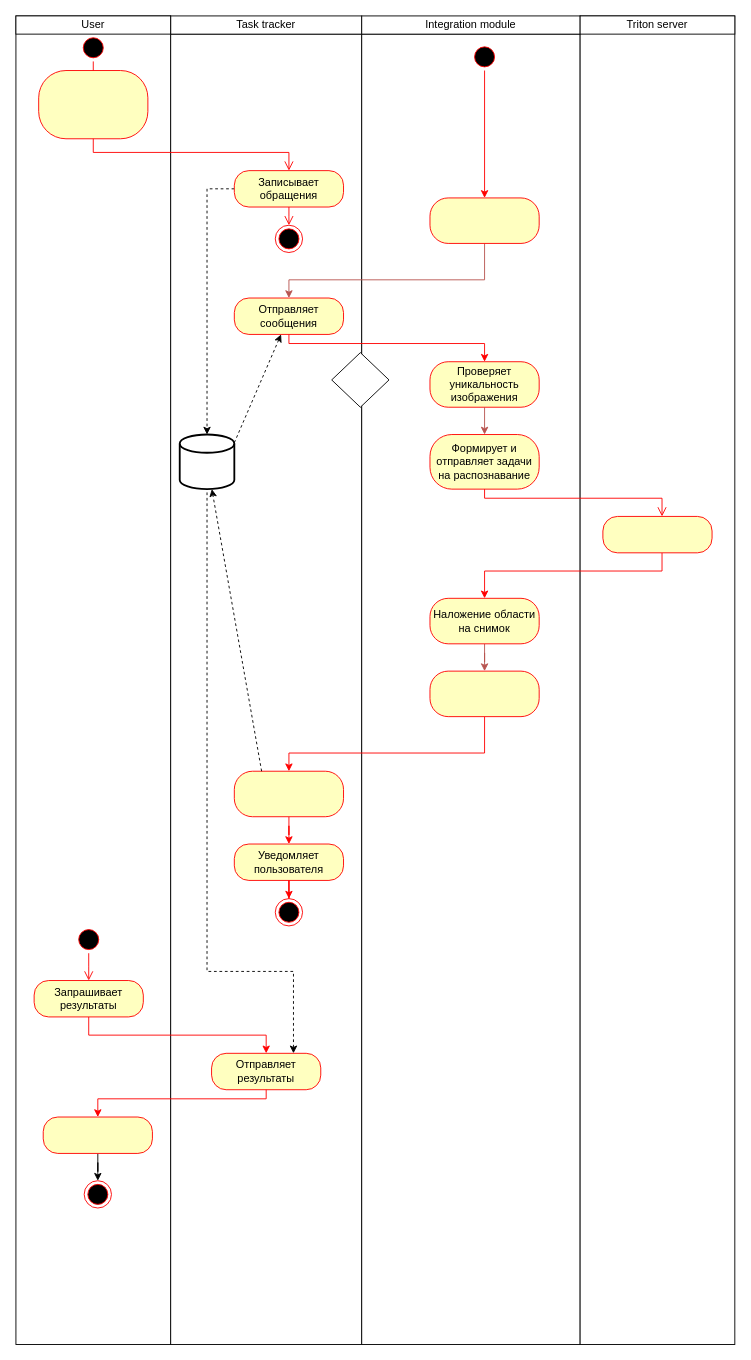
Image size: 751x1360. Some labels were removed from this diagram. The box of each missing label's shape, as (x1, y1, x2, y2) in pixels:
Вытягивает помеченные сообщения: (429, 197, 539, 243)
Записывает результаты: (233, 770, 344, 817)
Отправляет заявку и файлы, помечает файлы для обработки: (38, 70, 148, 139)
Отправляет результат в таск трекер: (429, 670, 539, 717)
Получает результаты: (42, 1116, 152, 1153)
Распознает изображения: (602, 516, 712, 553)
